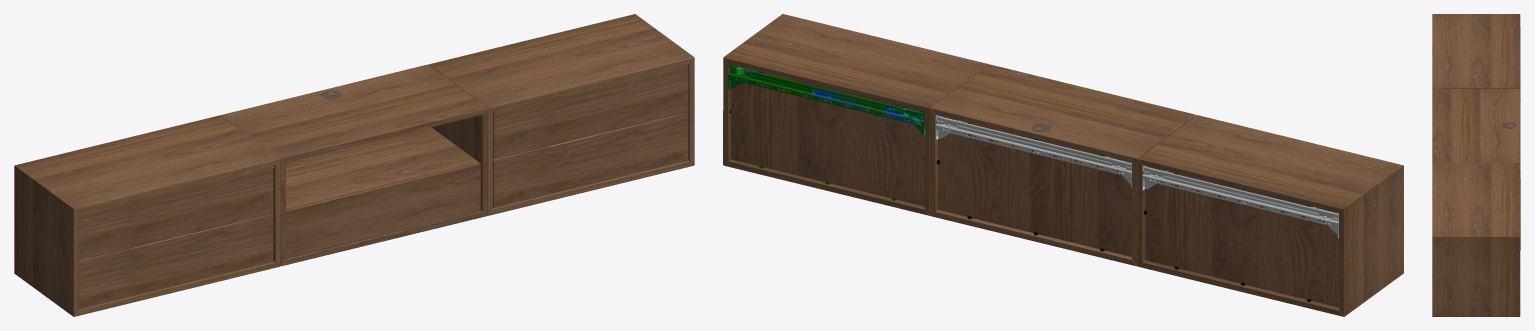
The picture shows the model from 3 angles, left to right: view 1: azimuth 30°, elevation 25°; view 2: azimuth 150°, elevation 25°; view 3: azimuth 270°, elevation 25°; orthographic projection. The views are drawn at different scales.
Visible parts, largest first — view 1: 69580983_media_storage_combination_011_primitive0.001, 69580983_media_storage_combination_008.001, 69580983_media_storage_combination_007.003, 69580983_media_storage_combination_007.001, 69580983_media_storage_combination_008.003; view 2: 69580983_media_storage_combination_008.001, 69580983_media_storage_combination_008.003, 69580983_media_storage_combination_011_primitive0.001, 69580983_media_storage_combination_015.001, 69580983_media_storage_combination_015.003, 69580983_media_storage_combination_015.005; view 3: 69580983_media_storage_combination_008.003, 69580983_media_storage_combination_008.001, 69580983_media_storage_combination_011_primitive0.001, 69580983_media_storage_combination_012.001.
Boxes of the visible parts, x1=… form: 69580983_media_storage_combination_011_primitive0.001: x1=222, y1=64, x2=487, y2=266; 69580983_media_storage_combination_008.001: x1=14, y1=115, x2=280, y2=316; 69580983_media_storage_combination_007.003: x1=493, y1=64, x2=688, y2=207; 69580983_media_storage_combination_007.001: x1=79, y1=166, x2=273, y2=308; 69580983_media_storage_combination_008.003: x1=428, y1=14, x2=694, y2=215; 69580983_media_storage_combination_008.001: x1=1137, y1=115, x2=1403, y2=316; 69580983_media_storage_combination_008.003: x1=723, y1=14, x2=989, y2=215; 69580983_media_storage_combination_011_primitive0.001: x1=930, y1=64, x2=1195, y2=266; 69580983_media_storage_combination_015.001: x1=1142, y1=165, x2=1338, y2=238; 69580983_media_storage_combination_015.003: x1=935, y1=115, x2=1131, y2=187; 69580983_media_storage_combination_015.005: x1=728, y1=64, x2=924, y2=136; 69580983_media_storage_combination_008.003: x1=1432, y1=163, x2=1520, y2=316; 69580983_media_storage_combination_008.001: x1=1432, y1=14, x2=1520, y2=88; 69580983_media_storage_combination_011_primitive0.001: x1=1432, y1=88, x2=1520, y2=162; 69580983_media_storage_combination_012.001: x1=1502, y1=122, x2=1516, y2=128.
Size of the model in its own units: 2.1 by 0.3509 by 0.3525.
1 material, 1 textured.
